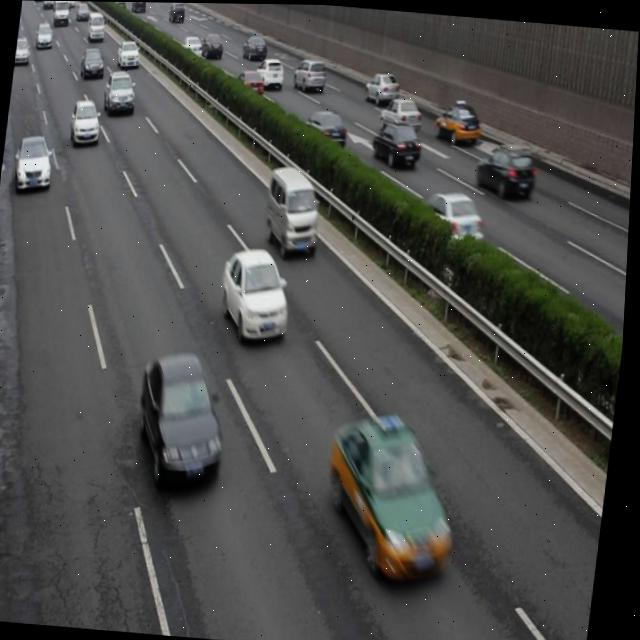car: (323, 411, 471, 587), (136, 348, 237, 490), (220, 244, 298, 345), (418, 188, 486, 250), (473, 141, 539, 202), (369, 118, 424, 169), (14, 132, 56, 196), (433, 98, 482, 145), (299, 108, 348, 152), (102, 68, 139, 120), (378, 93, 423, 135), (69, 98, 104, 148), (291, 55, 328, 94), (363, 69, 400, 107), (230, 67, 266, 104), (254, 56, 287, 92)
truck: (264, 162, 326, 259)
